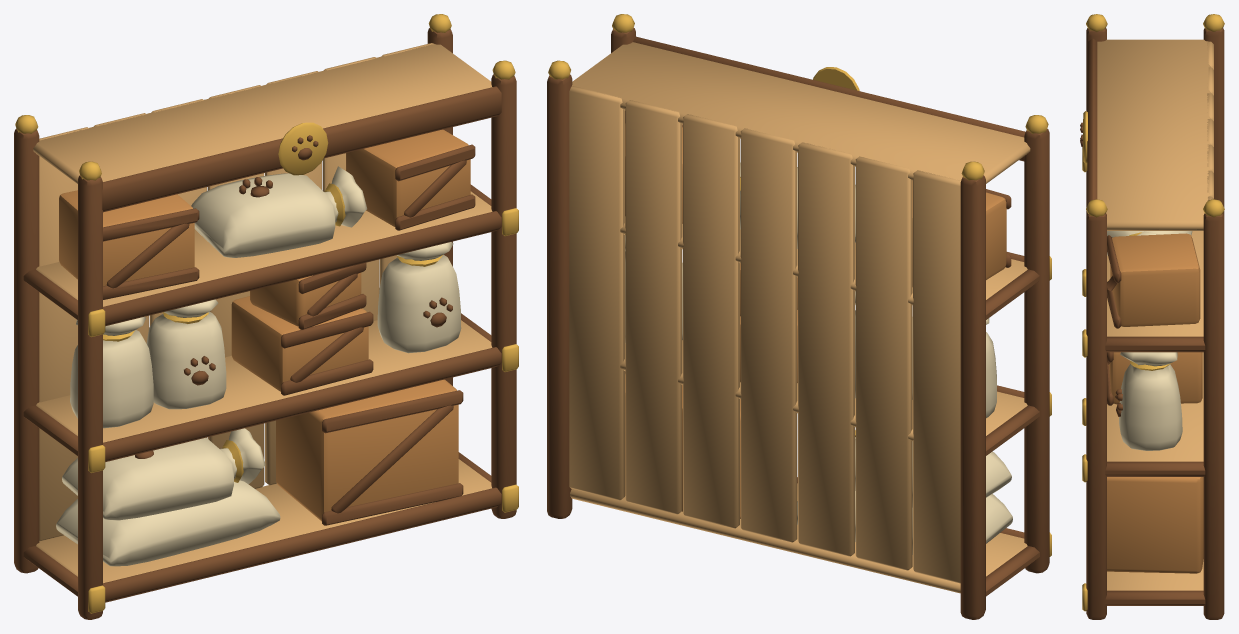
The model's file is ShopStorageShelf.fbx.
3 renders of one model, left to right at view 1: azimuth 30°, elevation 25°; view 2: azimuth 150°, elevation 25°; view 3: azimuth 270°, elevation 25°, orthographic. The views are drawn at different scales.
Parts seen in each view (by area): view 1: ShopStorageShelf; view 2: ShopStorageShelf; view 3: ShopStorageShelf.
Boxes of the visible parts, x1=… form: ShopStorageShelf: x1=14, y1=14, x2=518, y2=619; ShopStorageShelf: x1=547, y1=14, x2=1051, y2=619; ShopStorageShelf: x1=1080, y1=14, x2=1224, y2=619.
Bounding box in the file's own units: 2.01 × 2.01 × 0.631.
